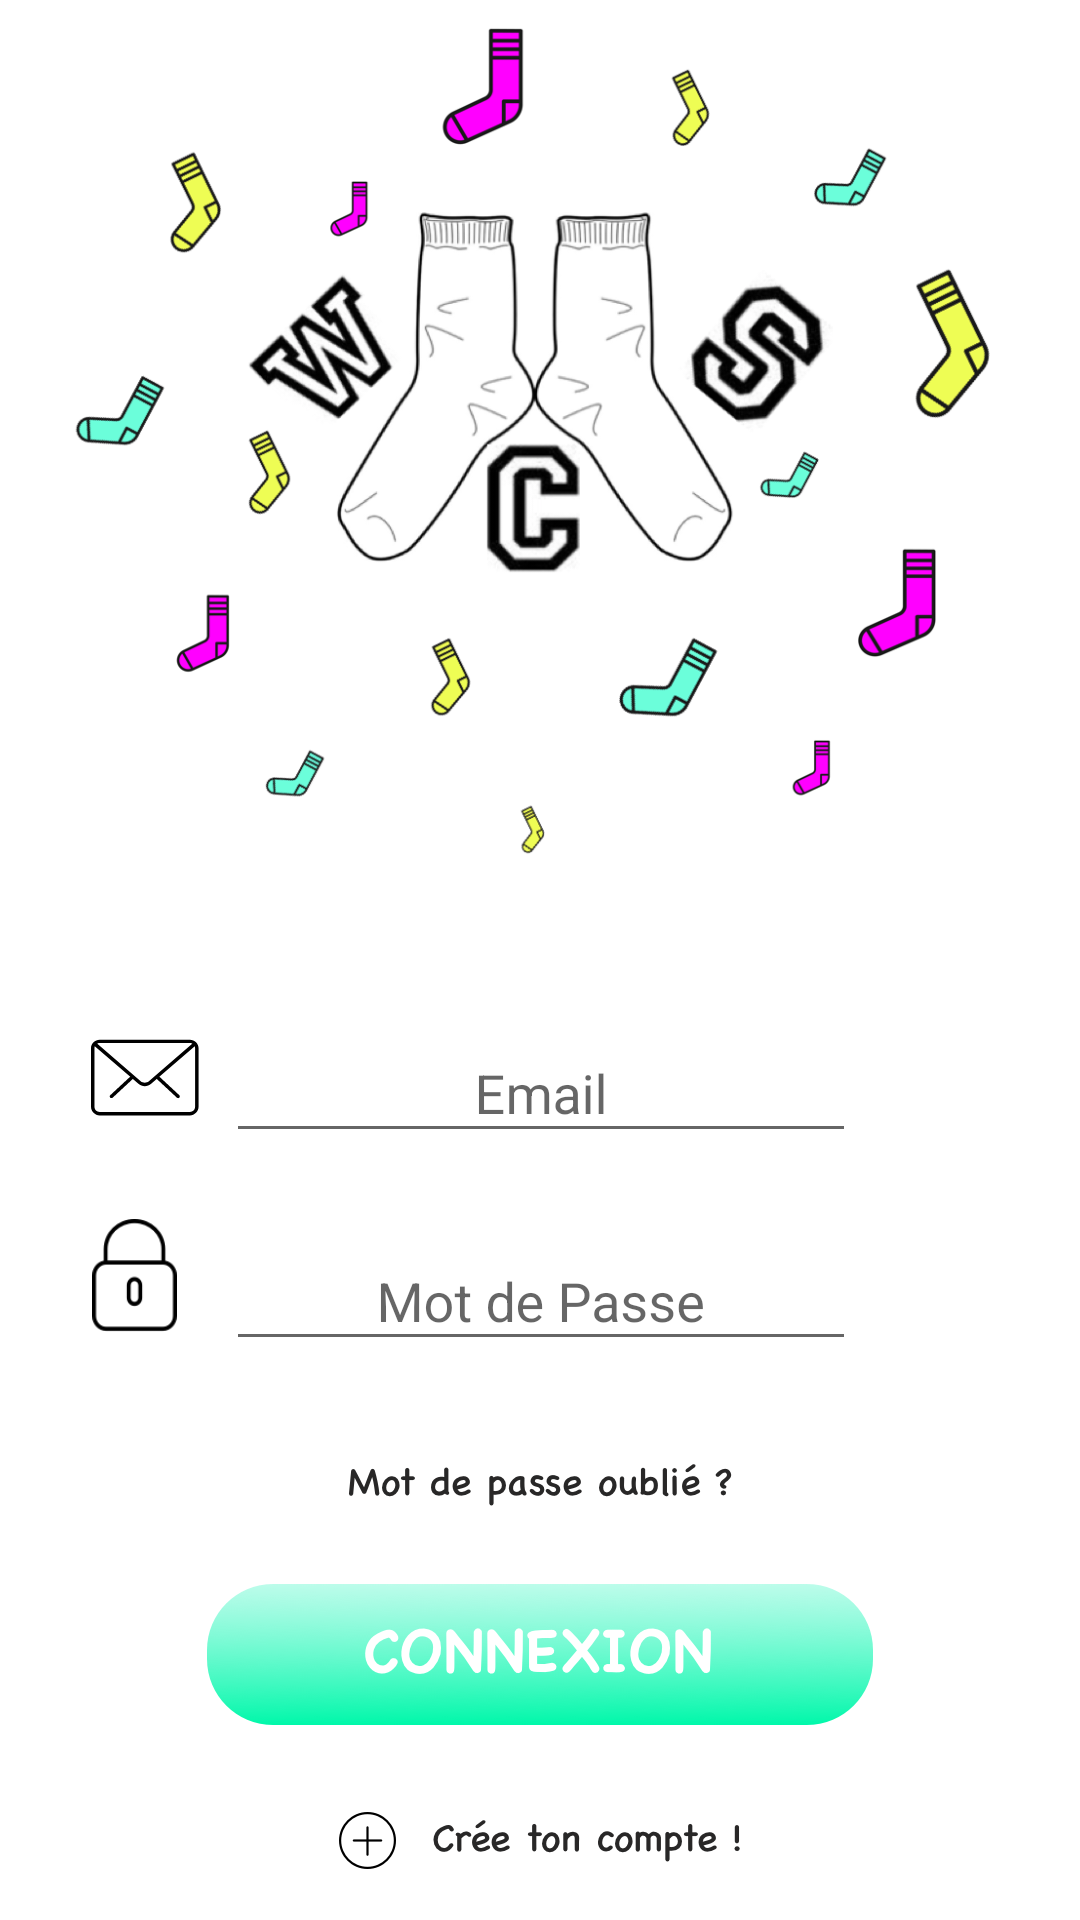

Screen size 1080w x 1920h. Icon name, then its box in pixels as (x1, y1, x2, y2):
locked: (92, 1219, 177, 1331)
